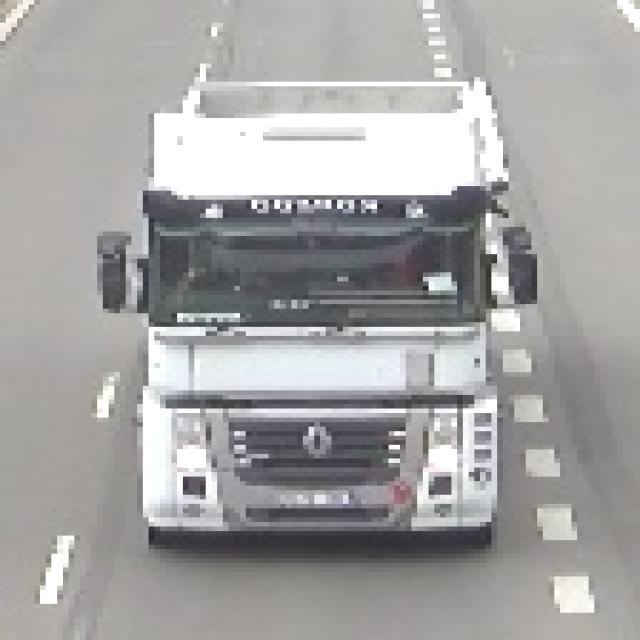TRUCK: (128, 19, 523, 556)
